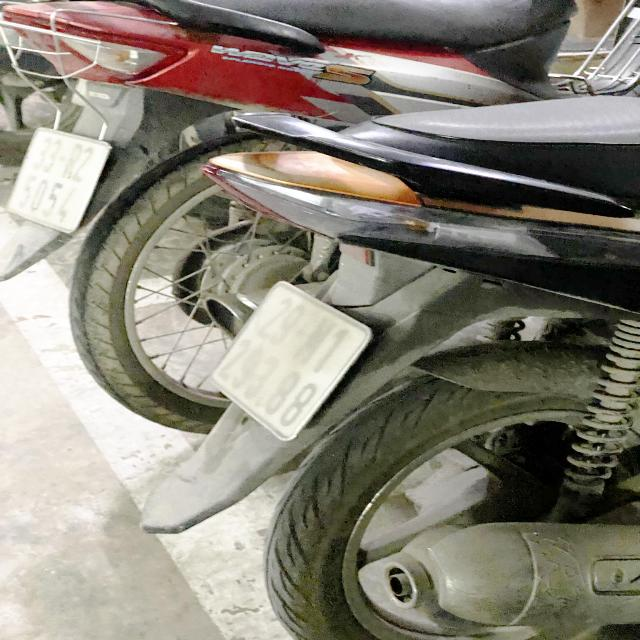license_plate: (205, 275, 375, 446), (5, 125, 113, 237)
